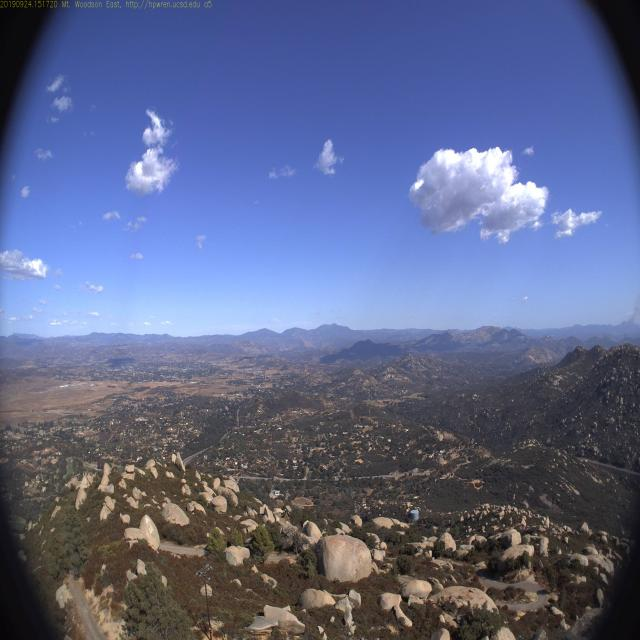smoke: (623, 299, 640, 333)
